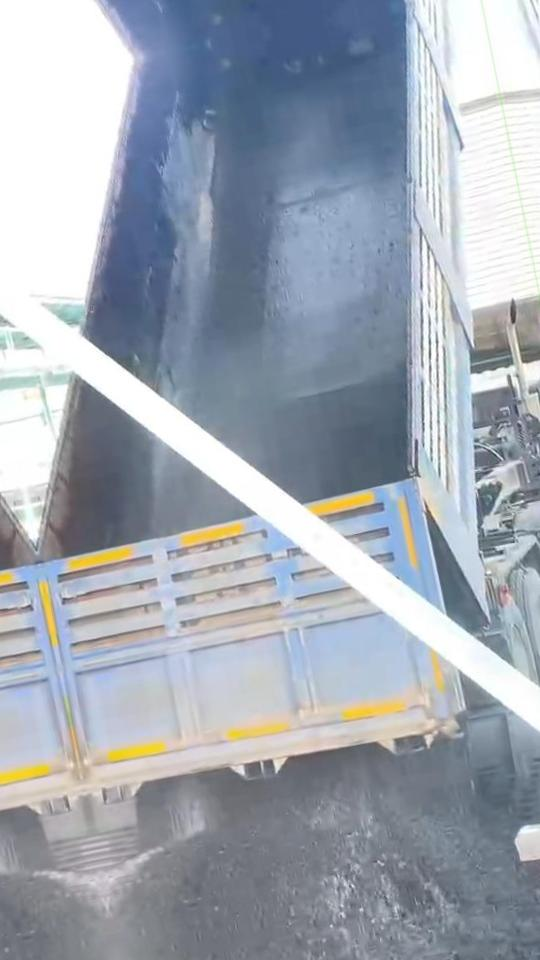gravel: (102, 741, 540, 960)
